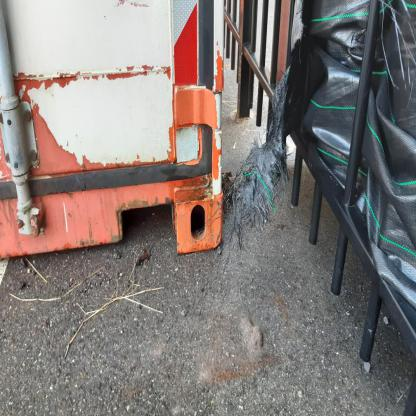CornerCasting: (172, 188, 224, 257)
